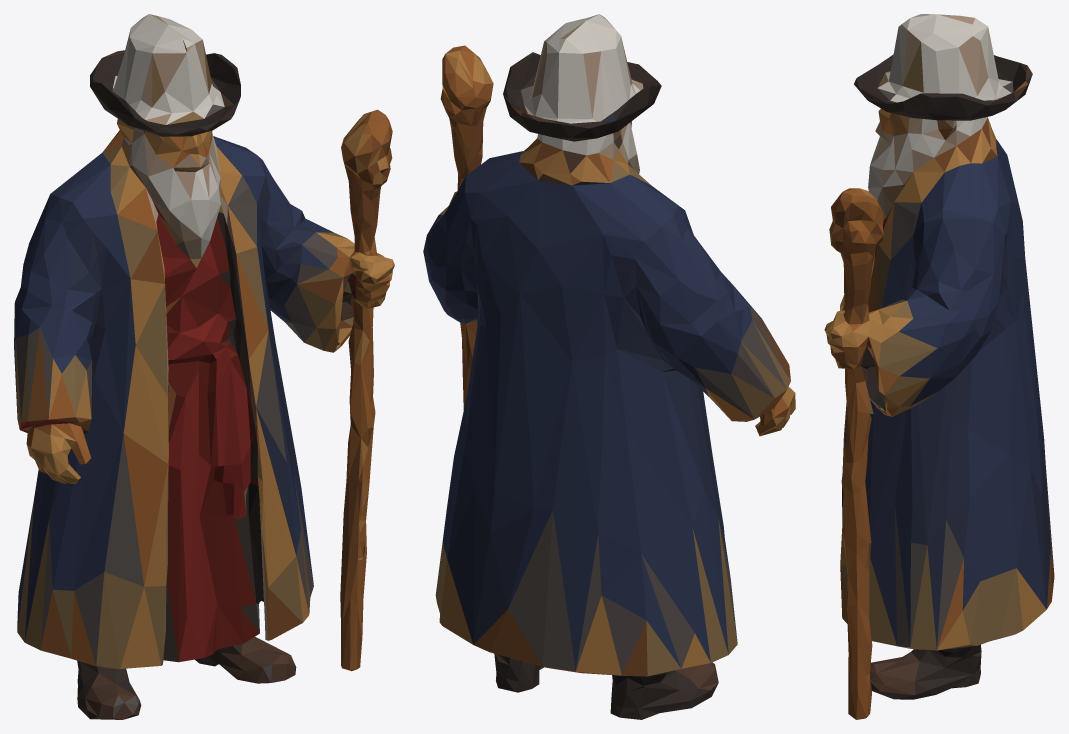
File: elder.blender.phone.glb
3 renders of one model, left to right at view 1: azimuth 30°, elevation 25°; view 2: azimuth 150°, elevation 25°; view 3: azimuth 270°, elevation 25°, orthographic. The views are drawn at different scales.
Visible parts, largest first — view 1: elder-blender; view 2: elder-blender; view 3: elder-blender.
Boxes of the visible parts, box(x1,y1,x2,y2) form: elder-blender: box(14, 14, 394, 719); elder-blender: box(423, 14, 795, 719); elder-blender: box(824, 14, 1054, 719).
Bounding box in the file's own units: 1.1 × 1.95 × 0.6358.
